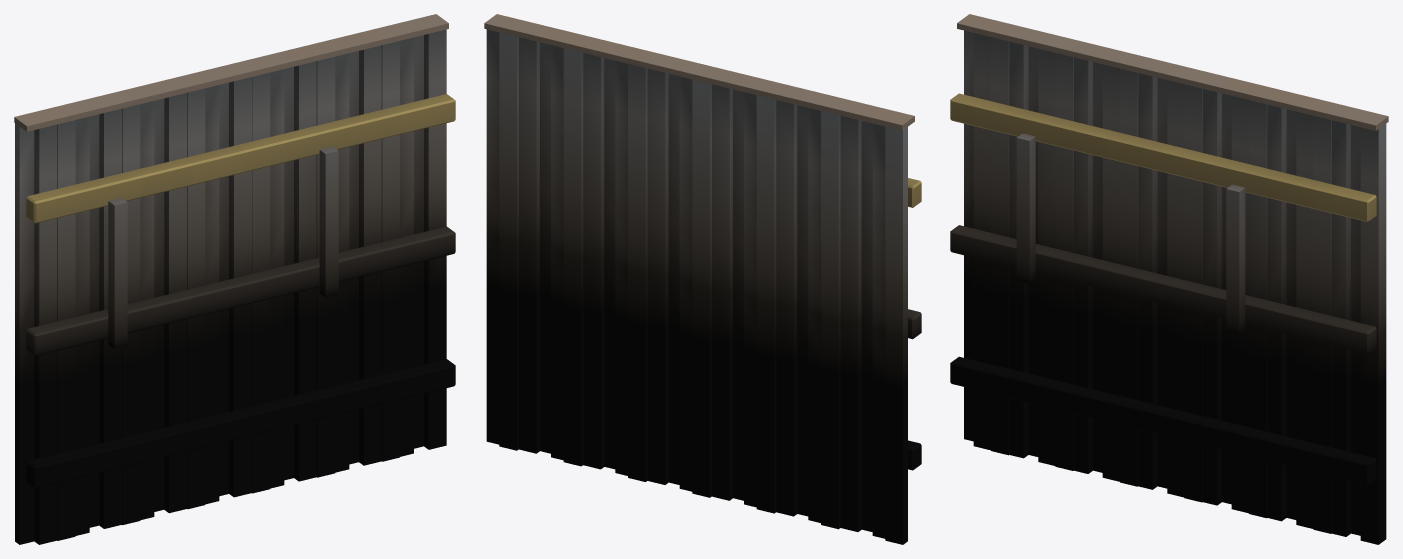
Rendered from pilewall.glb.
3 views of the same model, side by side, from view 1: azimuth 30°, elevation 25°; view 2: azimuth 150°, elevation 25°; view 3: azimuth 330°, elevation 25° (orthographic).
Parts seen in each view (by area): view 1: pilewall; view 2: pilewall; view 3: pilewall.
Boxes of the visible parts, box(x1,y1,x2,y2) form: pilewall: box(14, 14, 455, 544); pilewall: box(484, 14, 921, 544); pilewall: box(950, 14, 1388, 544).
Size of the model in its own units: 8 by 7.68 by 0.87.
